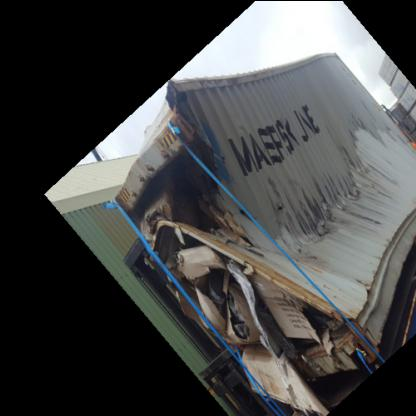Damage: (124, 75, 414, 414)
